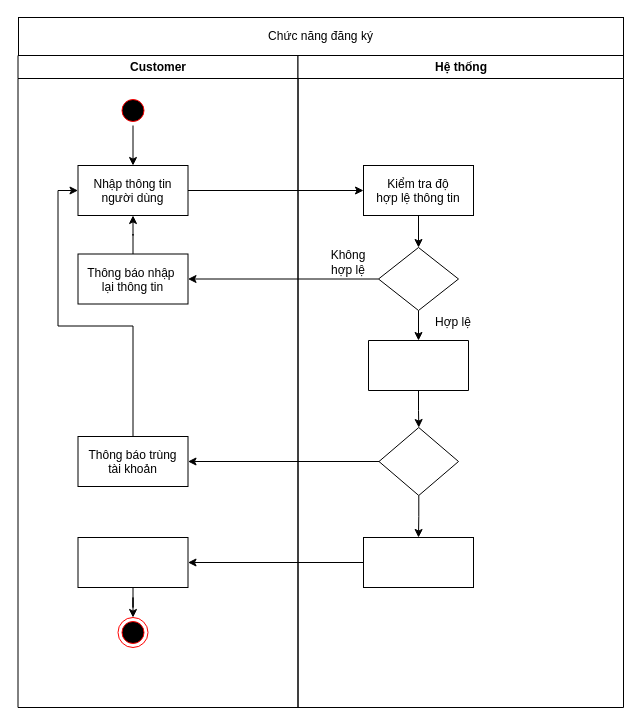
This 641x725 diagram has some shape labels left out. The shapes that lost their labels are listed below. From the top down, each one's centre as x and y in pixels, then its label:
point (418, 365): Kiểm tra xem có bị trùng lặp không
point (132, 562): Thông báo tạo tài khoản thành công
point (418, 562): Lưu thông tin người dùng mới vào database
